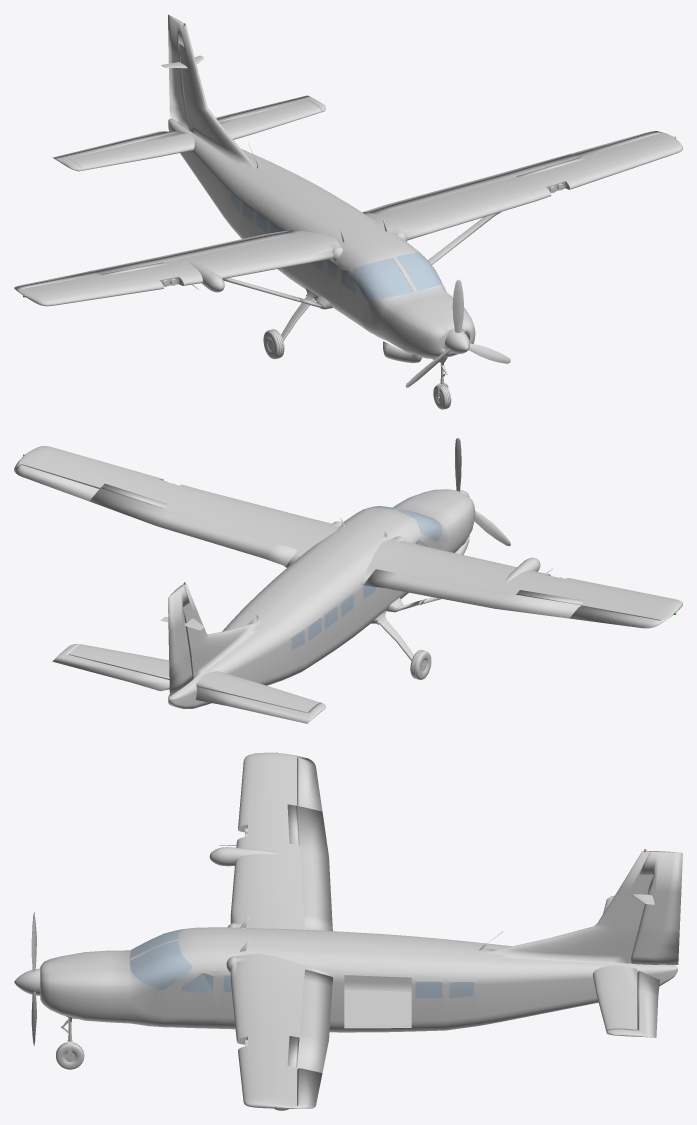
The model's file is Cessna208.fbx.
3 views of the same model, one above another, from view 1: azimuth 30°, elevation 25°; view 2: azimuth 150°, elevation 25°; view 3: azimuth 270°, elevation 25° (orthographic). The views are drawn at different scales.
Parts seen in each view (by area): view 1: fuselage, ailes, ailes2, intvitres, voletG, direction, profondeur, voletD, helice, barres, porteAD; view 2: fuselage, ailes, voletG, voletD, ailes2, profondeur, direction, intvitres, aileronG, aileronD, trous, helice (+2 smaller); view 3: fuselage, ailes, direction, voletD, intvitres, voletG, ailes2, planchet, profondeur, porteAG, aileronD, interieur (+3 smaller).
Part boxes in pixels (x1=…): fuselage: x1=168, y1=24, x2=475, y2=358; ailes: x1=14, y1=131, x2=682, y2=306; ailes2: x1=69, y1=100, x2=321, y2=170; intvitres: x1=231, y1=192, x2=442, y2=299; voletG: x1=364, y1=154, x2=579, y2=214; direction: x1=168, y1=14, x2=189, y2=129; profondeur: x1=52, y1=95, x2=325, y2=171; voletD: x1=89, y1=231, x2=297, y2=274; helice: x1=405, y1=279, x2=510, y2=387; barres: x1=223, y1=212, x2=500, y2=309; porteAD: x1=340, y1=264, x2=359, y2=321; fuselage: x1=168, y1=489, x2=475, y2=708; ailes: x1=14, y1=446, x2=682, y2=626; voletG: x1=89, y1=488, x2=297, y2=566; voletD: x1=363, y1=569, x2=580, y2=618; ailes2: x1=69, y1=644, x2=319, y2=712; profondeur: x1=52, y1=644, x2=325, y2=723; direction: x1=168, y1=586, x2=192, y2=696; intvitres: x1=291, y1=506, x2=442, y2=649; aileronG: x1=14, y1=464, x2=99, y2=501; aileronD: x1=569, y1=606, x2=659, y2=628; trous: x1=20, y1=464, x2=660, y2=712; helice: x1=455, y1=438, x2=510, y2=546; fuselage: x1=40, y1=851, x2=677, y2=1032; ailes: x1=226, y1=752, x2=333, y2=1108; direction: x1=630, y1=851, x2=682, y2=964; voletD: x1=297, y1=806, x2=332, y2=931; intvitres: x1=129, y1=929, x2=473, y2=998; voletG: x1=297, y1=969, x2=332, y2=1072; ailes2: x1=593, y1=898, x2=637, y2=1030; planchet: x1=344, y1=990, x2=411, y2=1025; profondeur: x1=606, y1=895, x2=659, y2=1037; porteAG: x1=177, y1=969, x2=217, y2=1021; aileronD: x1=297, y1=757, x2=322, y2=811; interieur: x1=344, y1=975, x2=411, y2=991.
Bounding box in the file's own units: 1585 × 458 × 1260.
